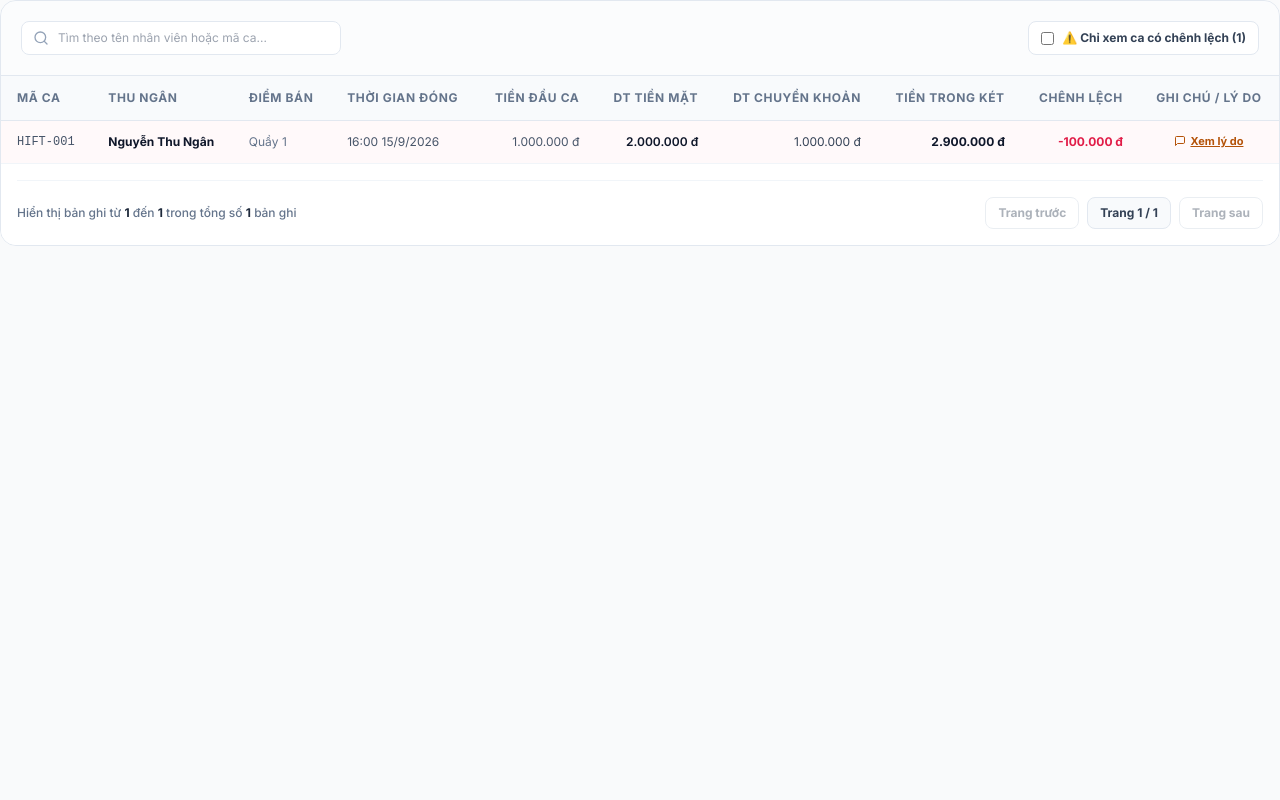
NCL-07-CN-010: Báo cáo doanh thu theo nhân viên và theo ca › renders ShiftDetailTable and marks shifts exceeding discrepancy threshold
Expected: the text "Nguyễn Thu Ngân" is shown, [92, 120, 233, 163]
Expected: the text "-100.000 đ" is shown, [1058, 134, 1123, 149]
// Click to view reason modal
Click the button "Xem lý do".
click(1209, 141)  # box [1174, 133, 1243, 149]
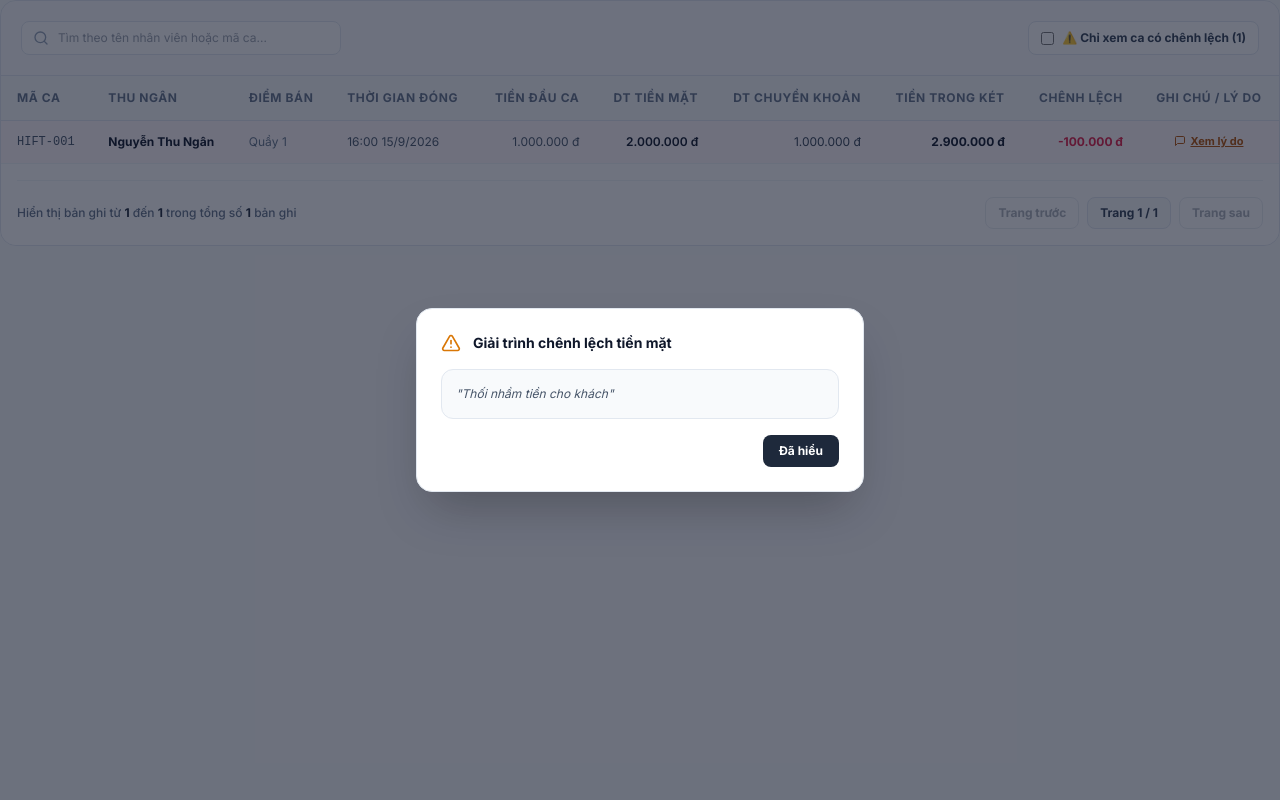
Expected: the text "\"Thối nhầm tiền cho khách\"" is shown, [441, 369, 839, 419]
